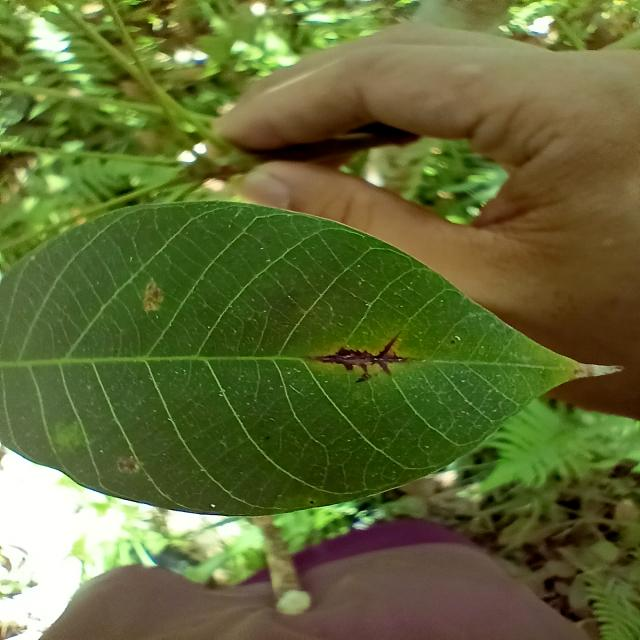Corynespora: (309, 329, 413, 383)
